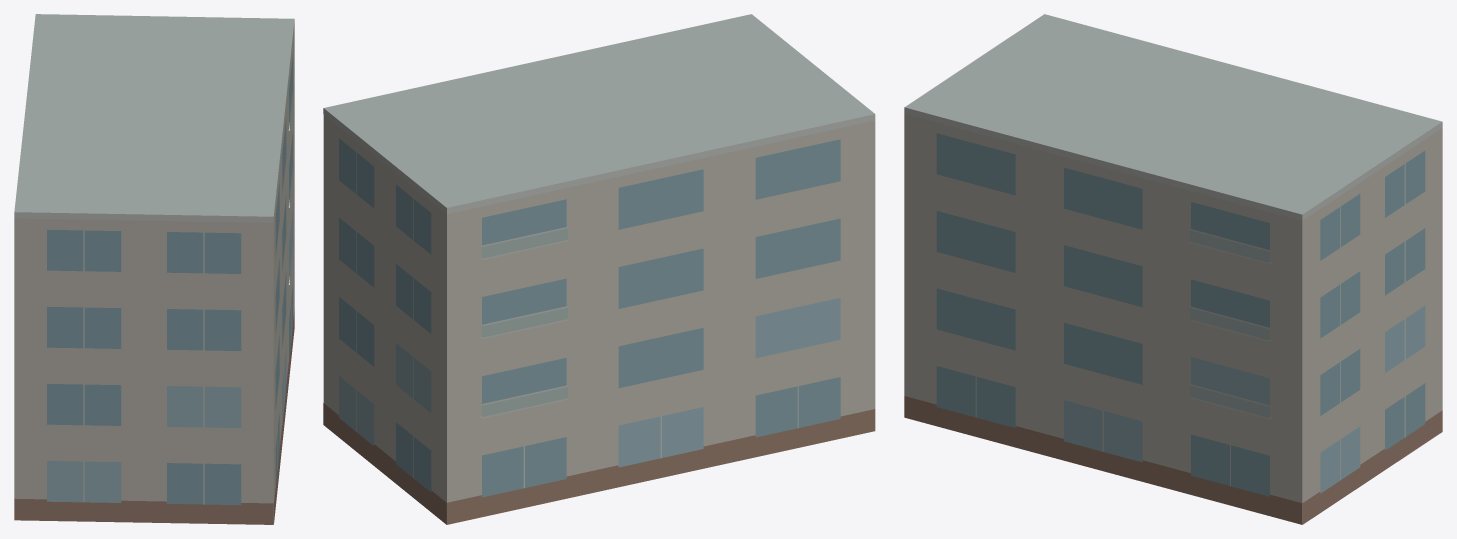
File: survey-upis-32893498.glb
The picture shows the model from 3 angles, left to right: view 1: azimuth 30°, elevation 25°; view 2: azimuth 150°, elevation 25°; view 3: azimuth 270°, elevation 25°; orthographic projection. The views are drawn at different scales.
Visible parts, largest first — view 1: survey-upis-32893498.tmp; view 2: survey-upis-32893498.tmp; view 3: survey-upis-32893498.tmp.
Part boxes in pixels (x1,y1,x2,y2): survey-upis-32893498.tmp: [14, 14, 294, 524]; survey-upis-32893498.tmp: [323, 14, 875, 524]; survey-upis-32893498.tmp: [904, 14, 1442, 524].
Bounding box in the file's own units: 16.93 × 12.2 × 19.19.
